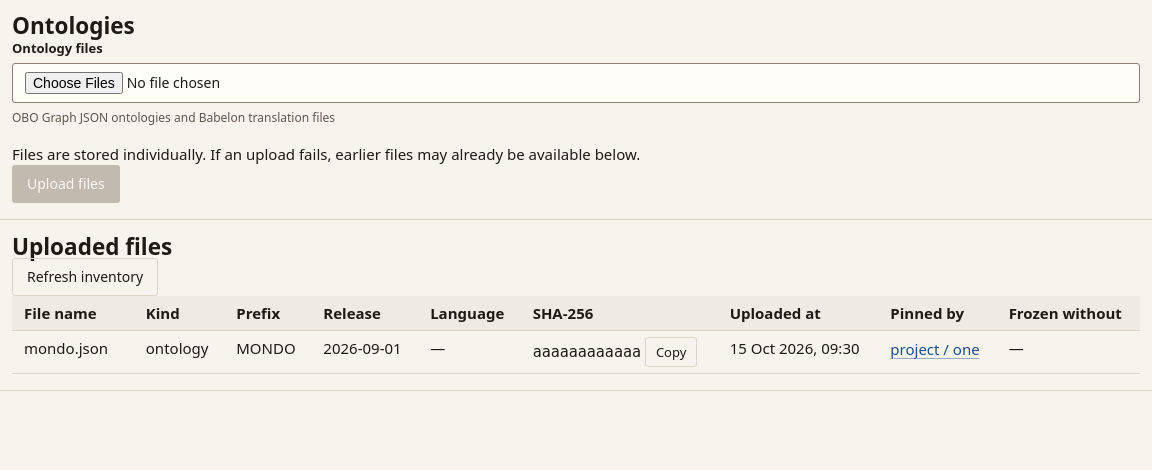
Scenario: ontology administration page › announces copied only after clipboard success and reports clipboard refusal
Check: the text "mondo.json" is shown, box [12,331,134,374]
What coordinates should you click on to do the following:
click the button with aria-label "Copy SHA-256 for mondo.json"
I would click on:
 (671, 352)
Its box is [645,337,697,367].
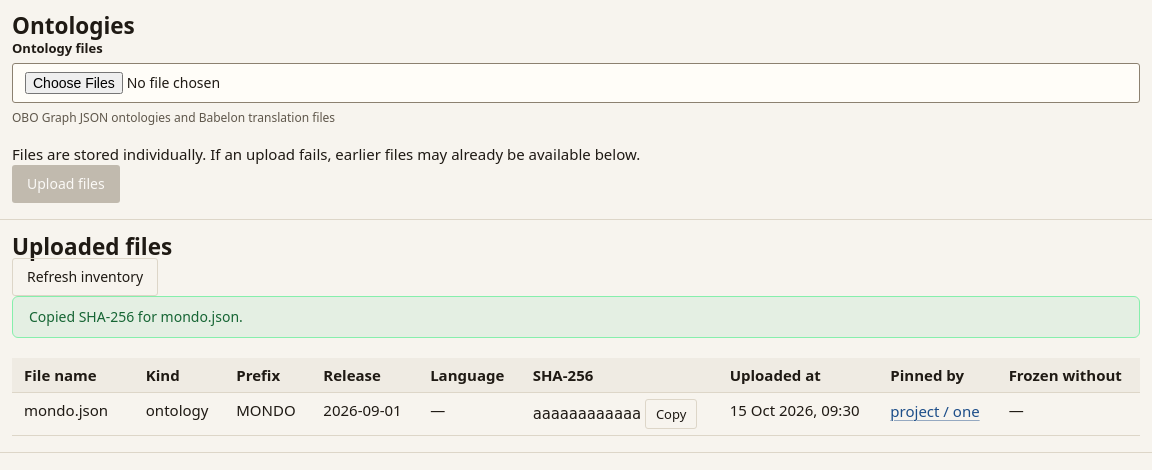
Check: the text "Copied SHA-256 for mondo.json." is shown, box [29,307,243,327]
What coordinates should you click on to do the following:
click the button with aria-label "Copy SHA-256 for mondo.json"
I would click on:
 (671, 414)
Its box is [645,399,697,429].
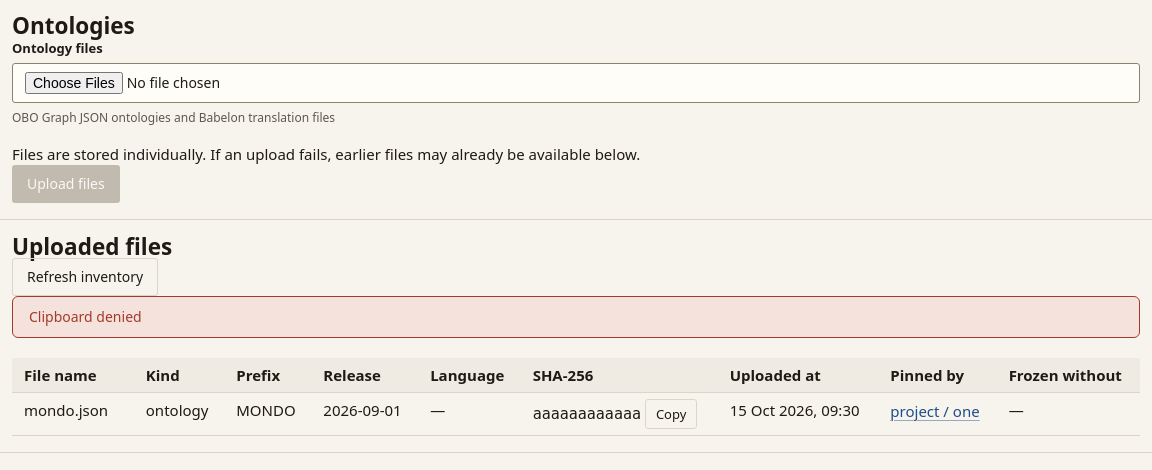
Check: the text "Clipboard denied" is shown, box [29,307,142,327]
Check: the text "Copied SHA-256 for mondo.json." is gone
